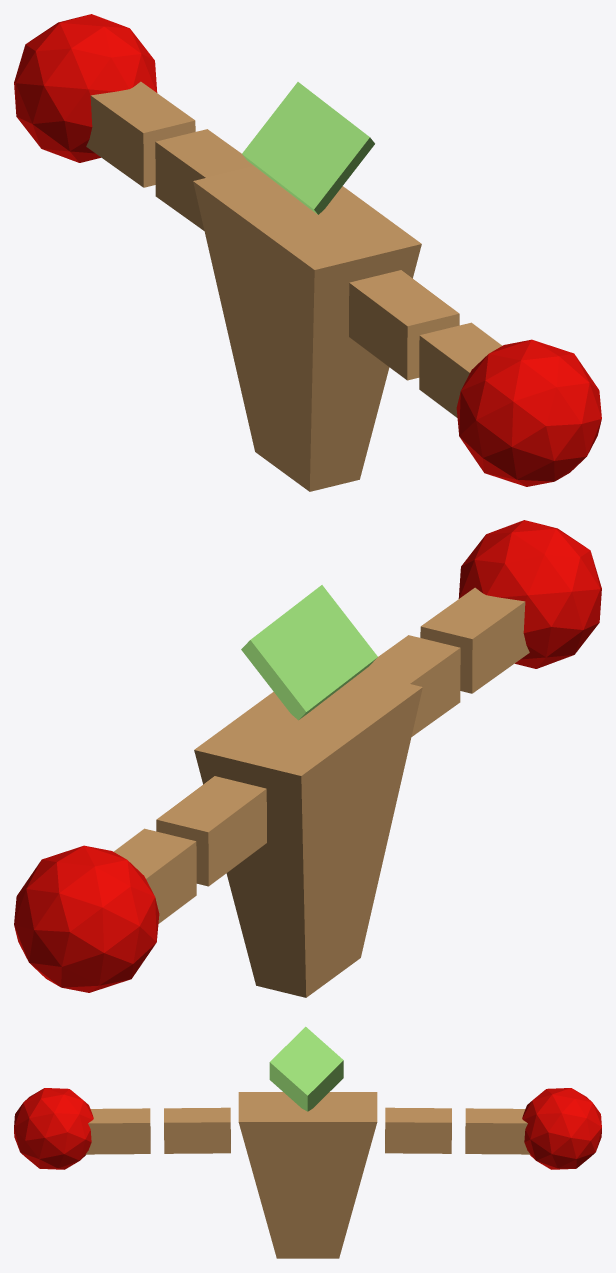
The model's file is boxer.fbx.
3 renders of one model, top to bottom at view 1: azimuth 30°, elevation 25°; view 2: azimuth 150°, elevation 25°; view 3: azimuth 270°, elevation 25°, orthographic. The views are drawn at different scales.
Visible parts, largest first — view 1: torso, boxer.right, boxer.left, head, first.segment.right, second.segment.left, first.segment.left, second.segment.right; view 2: torso, boxer.left, boxer.right, head, first.segment.left, second.segment.right, first.segment.right, second.segment.left; view 3: torso, boxer.left, boxer.right, head, first.segment.left, first.segment.right, second.segment.left, second.segment.right.
Part boxes in pixels (box(x1,y1,x2,y2)): torso: box(193, 166, 421, 491); boxer.right: box(456, 339, 601, 486); boxer.left: box(14, 14, 157, 162); head: box(242, 82, 374, 214); first.segment.right: box(349, 270, 459, 380); second.segment.left: box(86, 81, 195, 187); first.segment.left: box(155, 129, 253, 230); second.segment.right: box(419, 322, 501, 417); torso: box(194, 672, 422, 997); boxer.left: box(14, 845, 159, 992); boxer.right: box(458, 520, 601, 668); head: box(241, 585, 377, 720); first.segment.left: box(156, 776, 266, 886); second.segment.right: box(420, 587, 529, 693); first.segment.right: box(362, 635, 460, 736); second.segment.left: box(114, 828, 196, 923); torso: box(238, 1092, 377, 1258); boxer.left: box(522, 1088, 601, 1169); boxer.right: box(14, 1088, 93, 1169); head: box(269, 1026, 343, 1111); first.segment.left: box(385, 1107, 451, 1153); first.segment.right: box(164, 1107, 230, 1153); second.segment.left: box(465, 1108, 530, 1154); second.segment.right: box(85, 1108, 150, 1154).
Size of the model in its own units: 209 by 1376 by 573.
